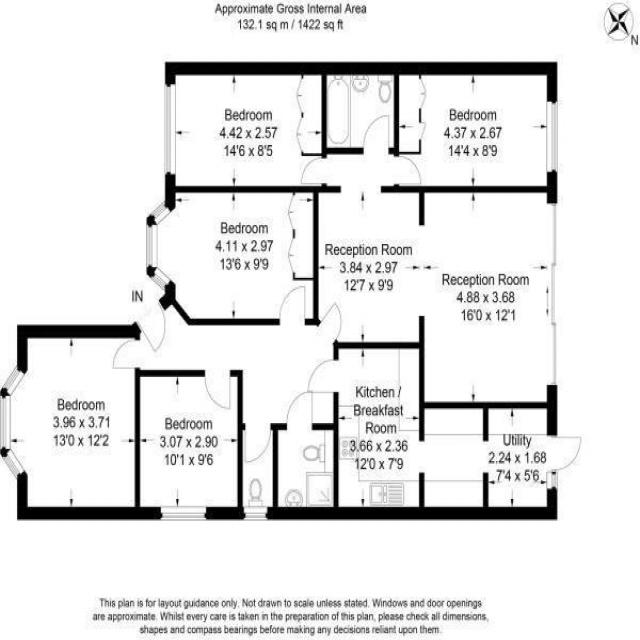DOOR: (134, 299, 167, 355), (545, 436, 582, 472), (243, 422, 272, 466), (316, 300, 343, 347), (203, 367, 231, 411), (362, 114, 391, 156), (286, 389, 314, 432), (307, 358, 340, 394), (278, 285, 306, 327), (112, 339, 142, 369), (393, 155, 422, 186), (300, 156, 328, 186)
ROOM: (312, 183, 558, 409), (0, 324, 141, 522), (145, 185, 319, 326), (164, 60, 328, 194), (393, 61, 558, 193), (306, 341, 425, 521), (134, 369, 245, 523)
WINDOW: (164, 83, 177, 176), (545, 100, 559, 174), (0, 448, 27, 481), (1, 363, 26, 397), (160, 505, 208, 521), (148, 199, 173, 227), (148, 265, 173, 293), (0, 394, 12, 451), (145, 223, 159, 269), (242, 505, 269, 521), (545, 471, 558, 490)
